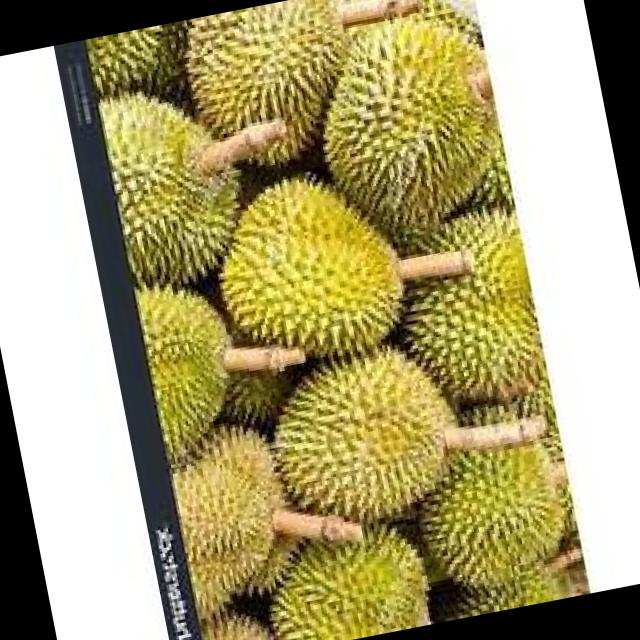fruit: (272, 0, 531, 266), (63, 0, 392, 198), (235, 319, 492, 567), (177, 146, 433, 393), (70, 56, 282, 316), (374, 408, 598, 622), (138, 406, 320, 636), (224, 496, 452, 640)
